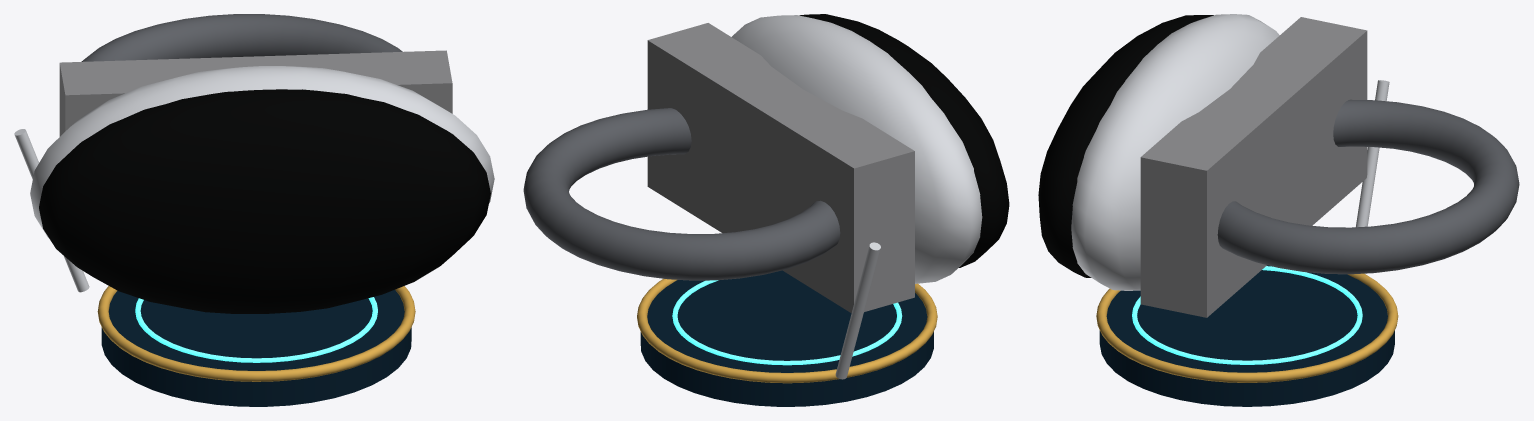
Rendered from plugin-mvmr94y8-v0dk.glb.
3 views of the same model, side by side, from view 1: azimuth 30°, elevation 25°; view 2: azimuth 150°, elevation 25°; view 3: azimuth 270°, elevation 25° (orthographic). The views are drawn at different scales.
Visible parts, largest first — view 1: part (×8); view 2: part (×8); view 3: part (×8).
Boxes of the visible parts, box(x1,y1,x2,y2) form: part (×8): box(14, 14, 494, 406); part (×8): box(523, 14, 1009, 406); part (×8): box(1038, 14, 1519, 406).
Bounding box in the file's own units: 0.5351 × 0.3672 × 0.5543.
